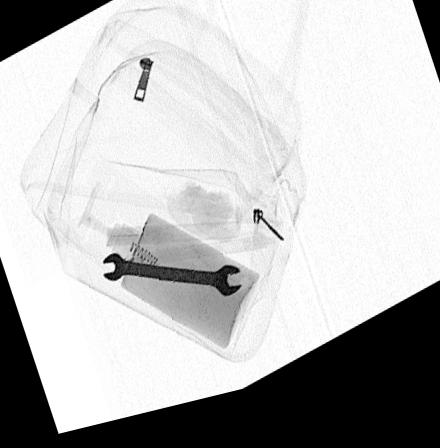Wrench: (98, 256, 241, 309)
